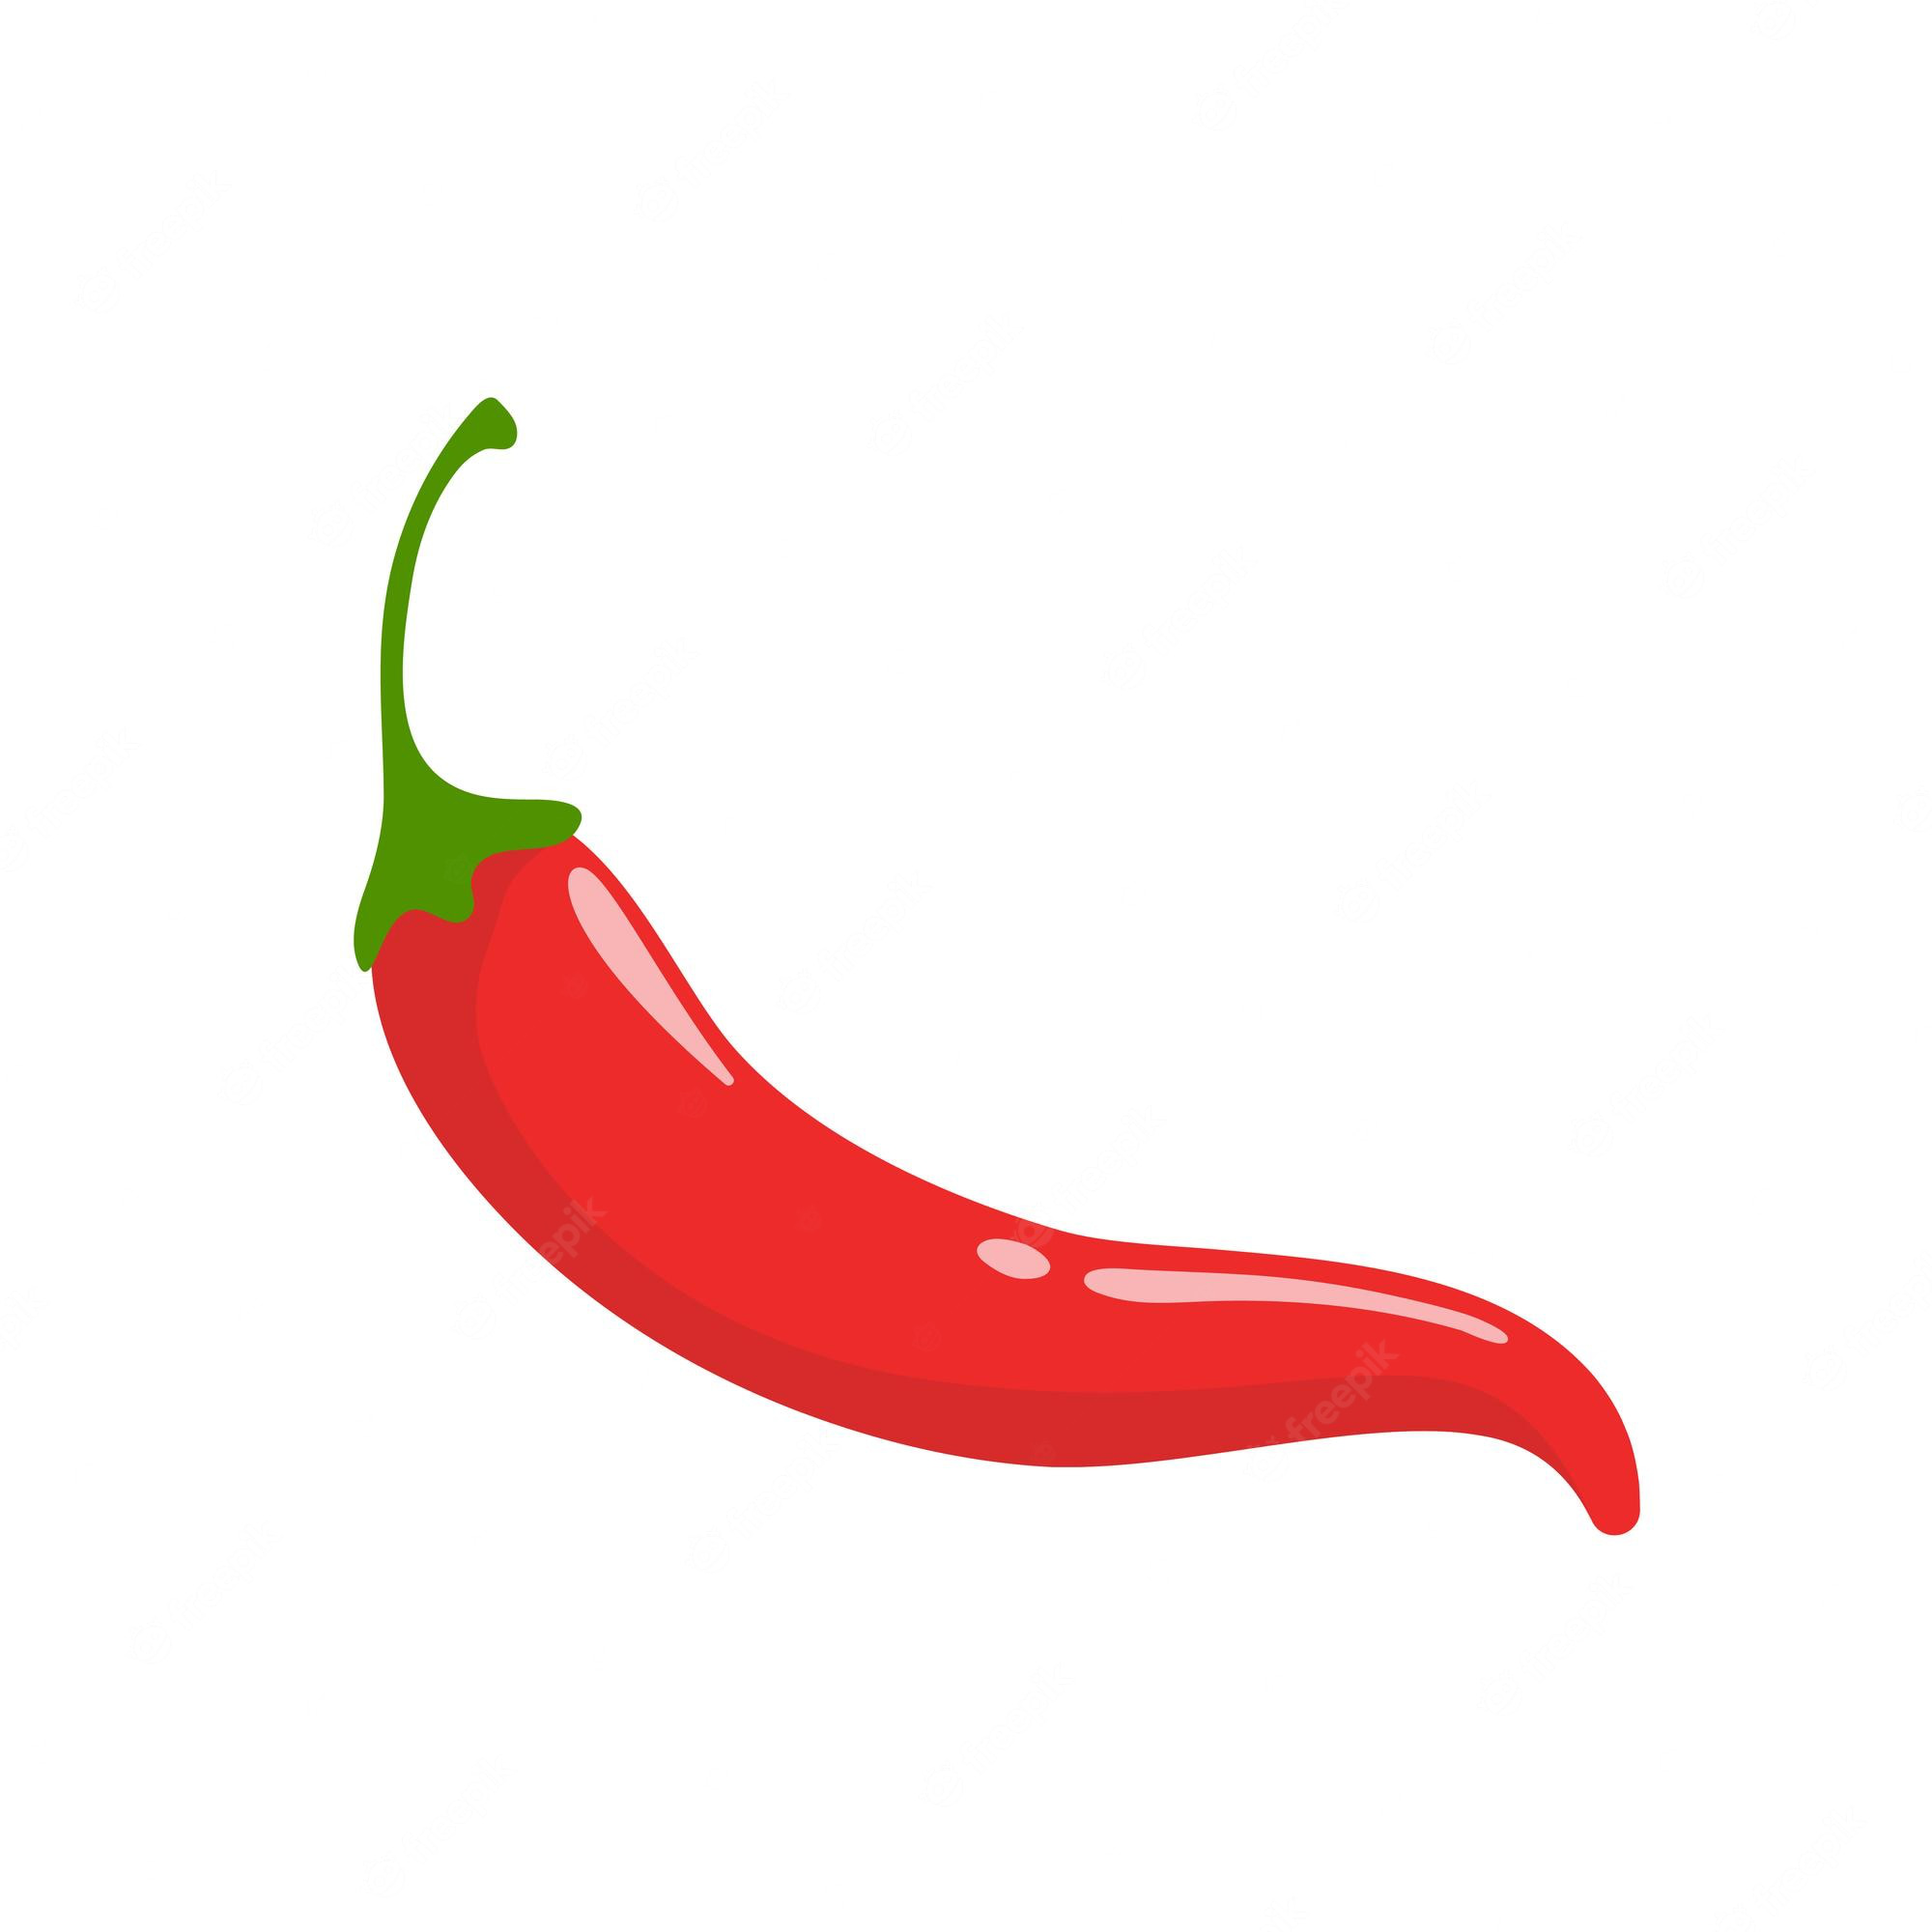Cabai: (186, 285, 1766, 1688)
